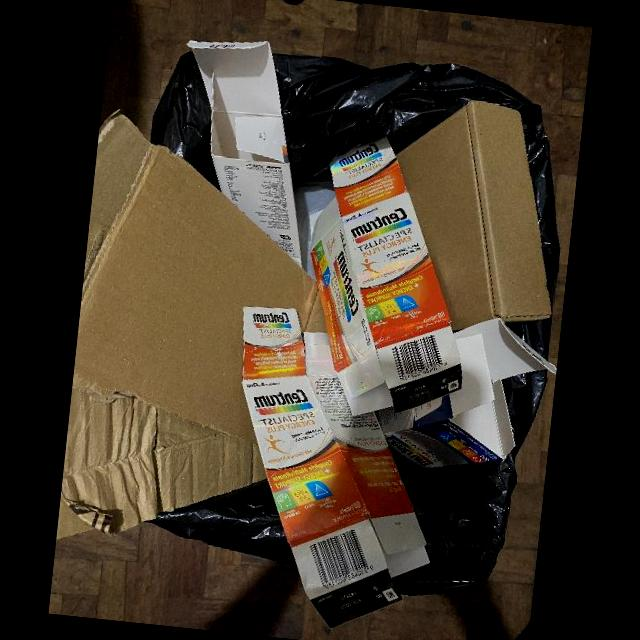carton: (71, 110, 326, 443), (241, 307, 429, 628), (308, 137, 462, 417), (396, 100, 551, 332), (56, 389, 266, 540), (374, 318, 556, 472), (186, 40, 302, 267)
